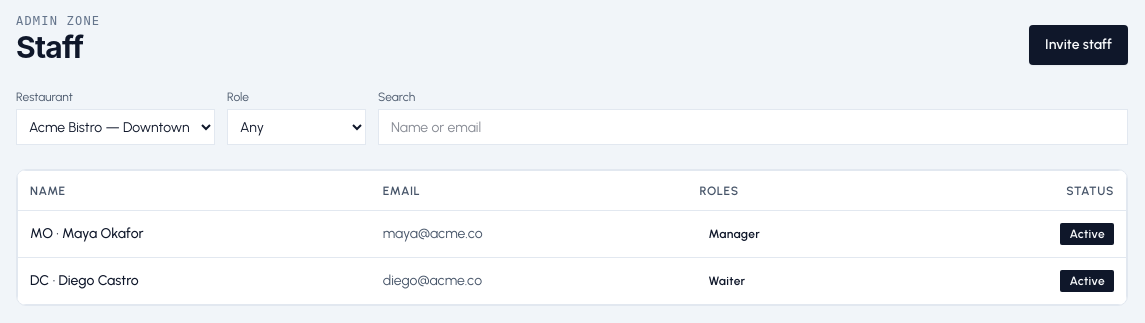
Test: StaffList › filters rows by role when the user picks one
The width and height of the screenshot is (1145, 323).
expect the link "MO · Maya Okafor" is shown: met, box [30,225,144,242]
Select "Waiter" in the dropdown labelled "Role". click: (296, 127)
box: [227,109,366,145]
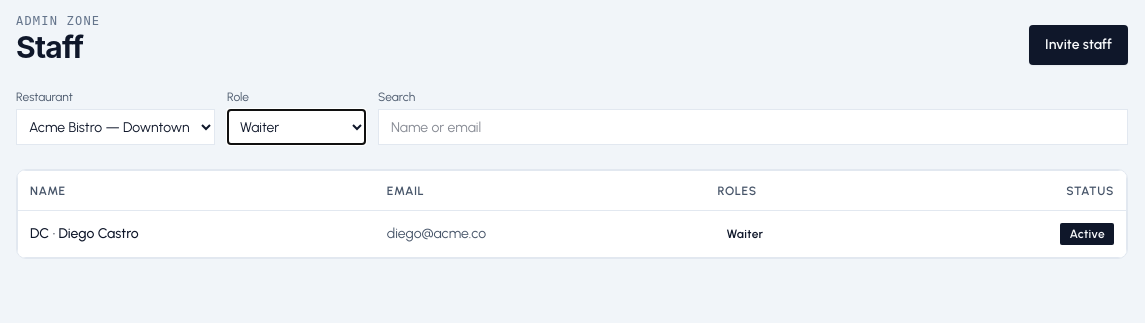
expect the link "DC · Diego Castro" is shown: met, box [30,225,139,242]
expect the link "Maya Okafor" is gone: met
